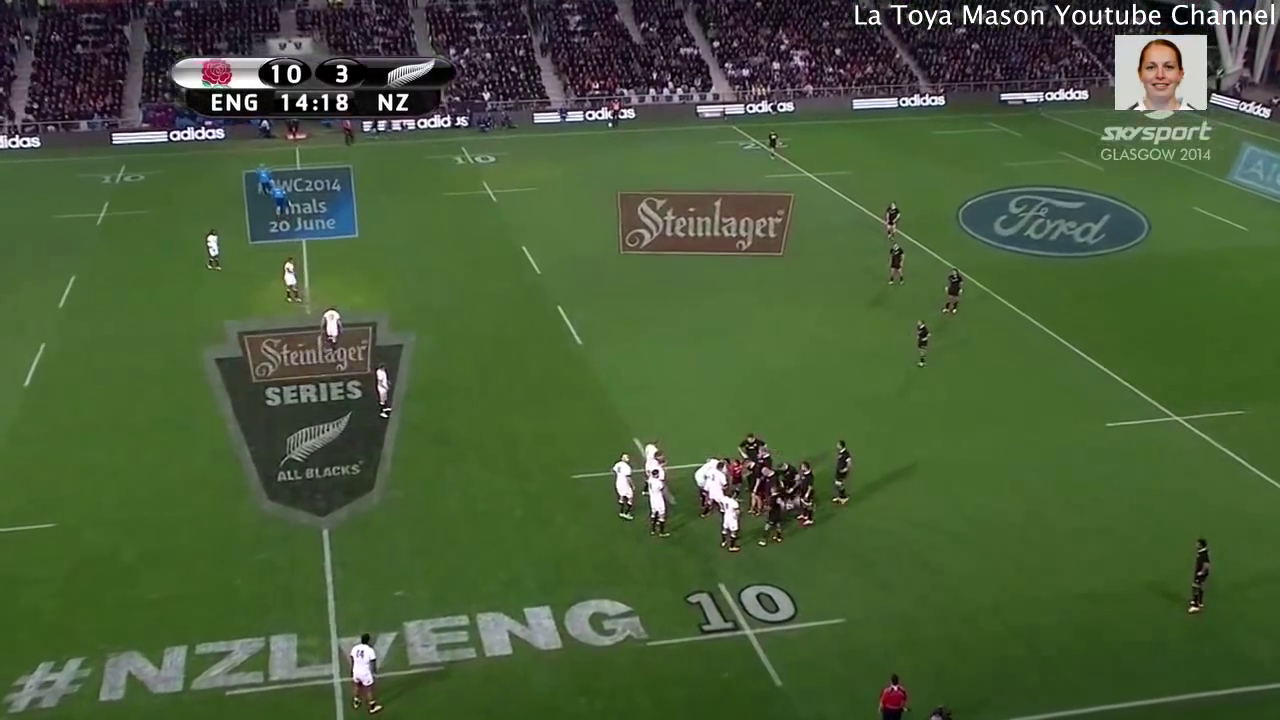10_metre: (640, 576, 848, 693), (442, 175, 544, 210), (49, 200, 151, 232), (429, 144, 512, 172), (80, 164, 163, 190)
player: (349, 626, 386, 718), (609, 444, 645, 524), (1185, 530, 1215, 623), (638, 466, 676, 536), (273, 251, 309, 311), (830, 434, 857, 509), (875, 664, 911, 720), (716, 490, 745, 556), (761, 481, 785, 554), (797, 461, 821, 532), (701, 464, 729, 520), (315, 304, 345, 356), (372, 357, 395, 419), (202, 224, 229, 274), (884, 237, 908, 288), (944, 263, 965, 320), (911, 317, 932, 369), (877, 196, 900, 242), (764, 126, 784, 165), (735, 430, 761, 454), (643, 452, 669, 474), (641, 434, 660, 446)
